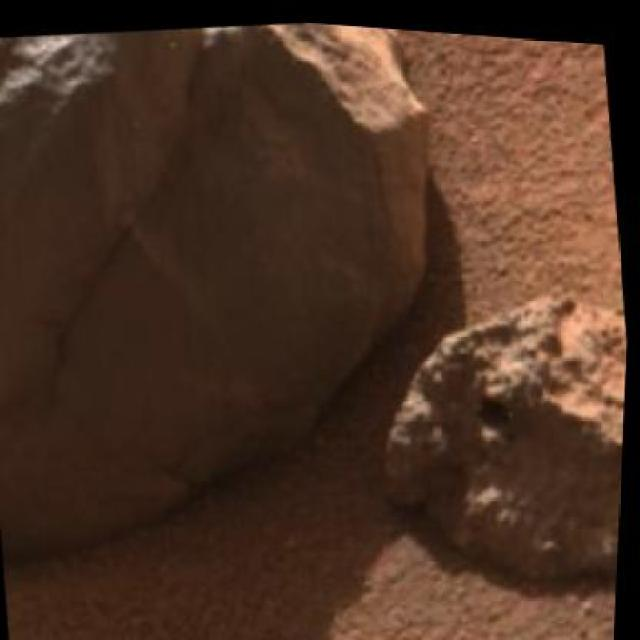rock: (0, 0, 495, 618), (358, 252, 631, 605)
